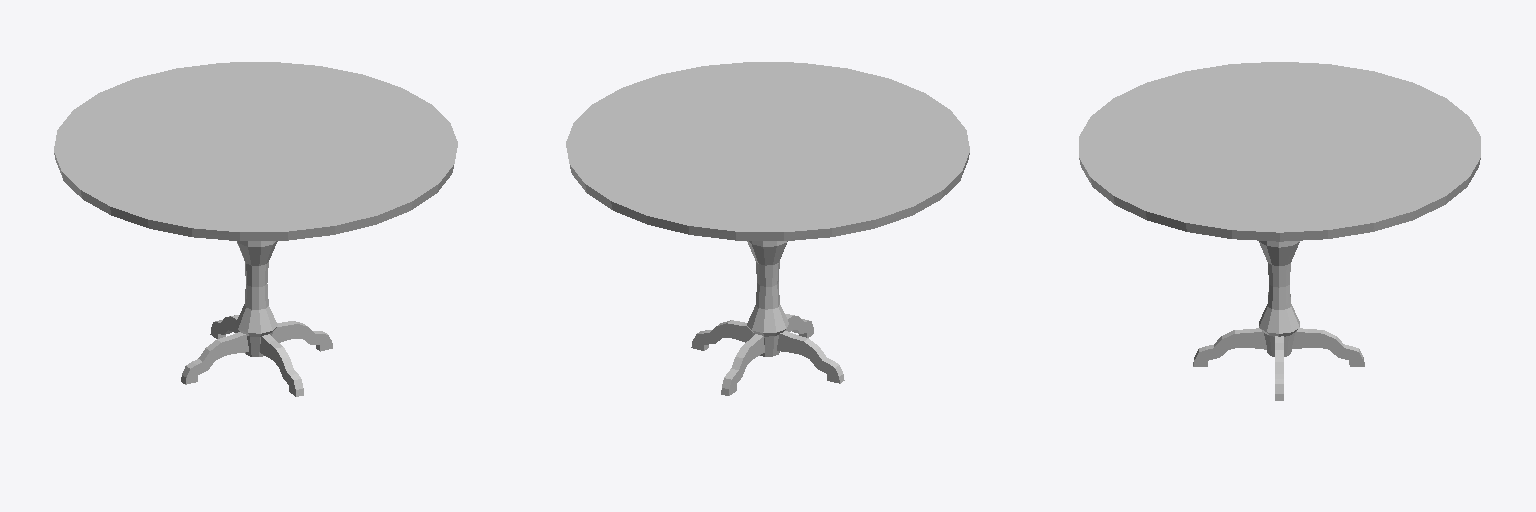
The model's file is table.obj.
3 renders of one model, left to right at view 1: azimuth 30°, elevation 25°; view 2: azimuth 150°, elevation 25°; view 3: azimuth 270°, elevation 25°, orthographic.
Parts seen in each view (by area): view 1: dbtable_03; view 2: dbtable_03; view 3: dbtable_03.
Part boxes in pixels (x1,y1,x2,y2): dbtable_03: (54,62,457,396); dbtable_03: (566,62,969,395); dbtable_03: (1079,62,1480,400).
Size of the model in its own units: 1 by 0.5932 by 0.9928.